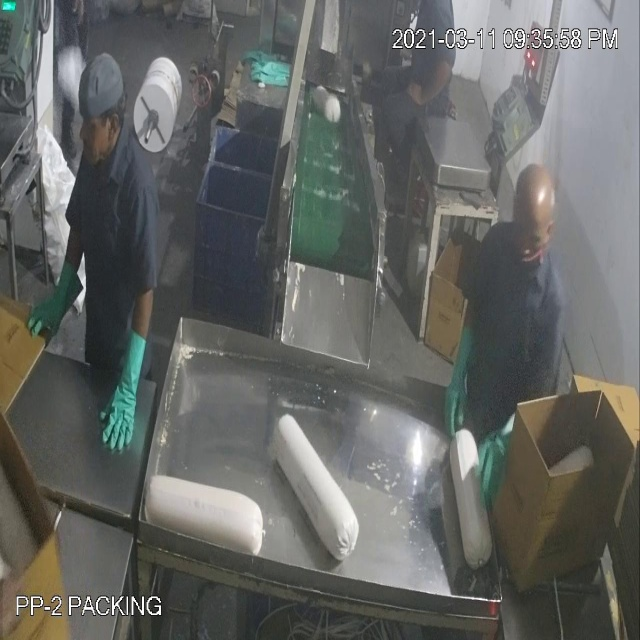Guantes: (90, 306, 156, 454), (21, 260, 88, 356), (444, 308, 480, 434)
Sin_guantes: (400, 58, 455, 120)
